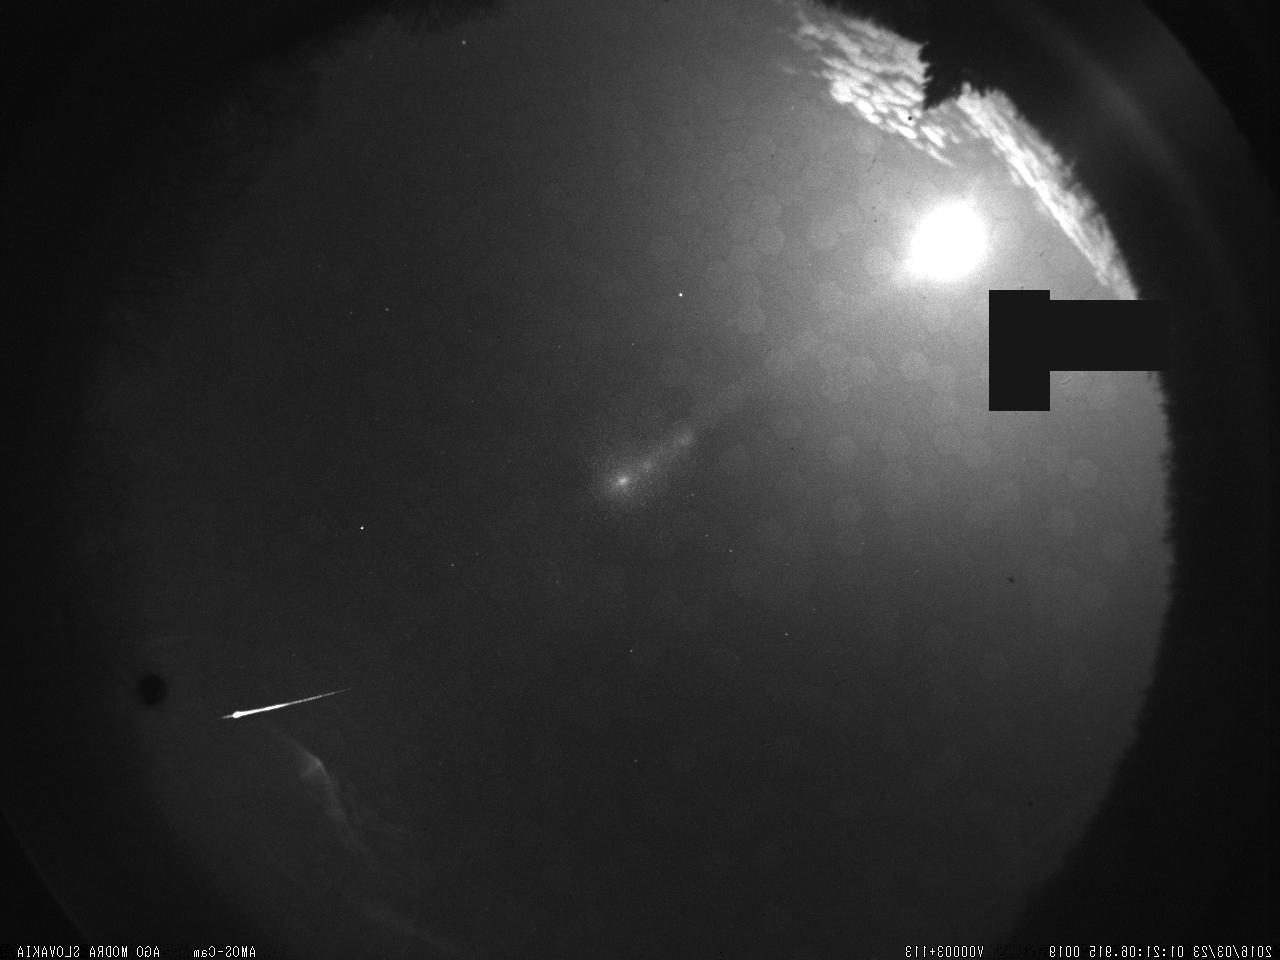meteor: (210, 647, 375, 746)
